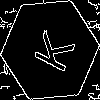K: (25, 25, 76, 75)
